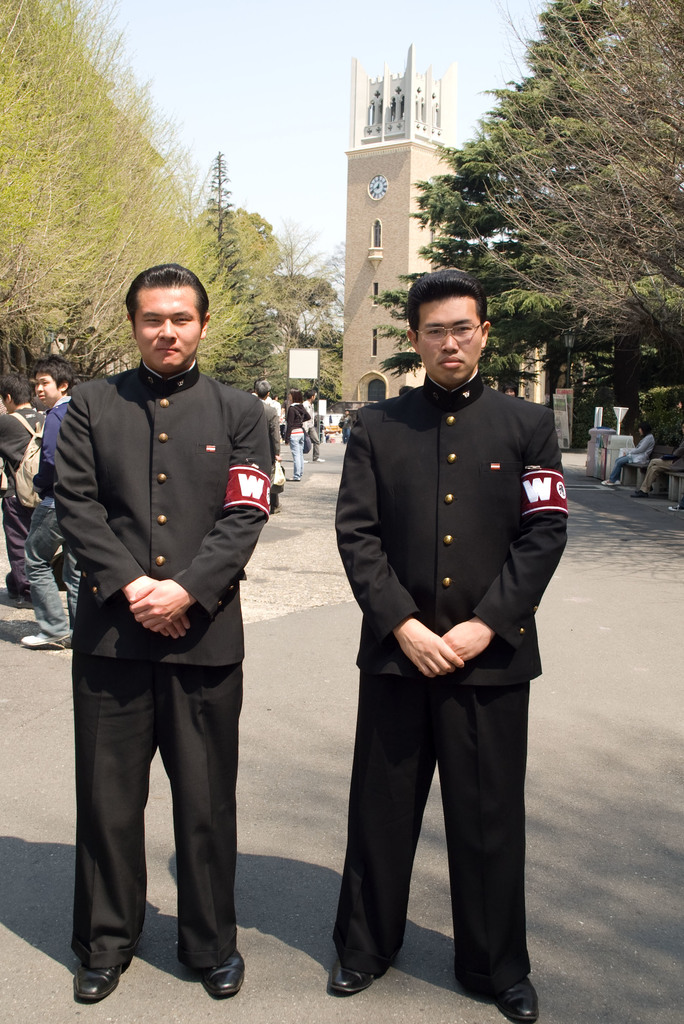Person: (0, 262, 684, 1024)
